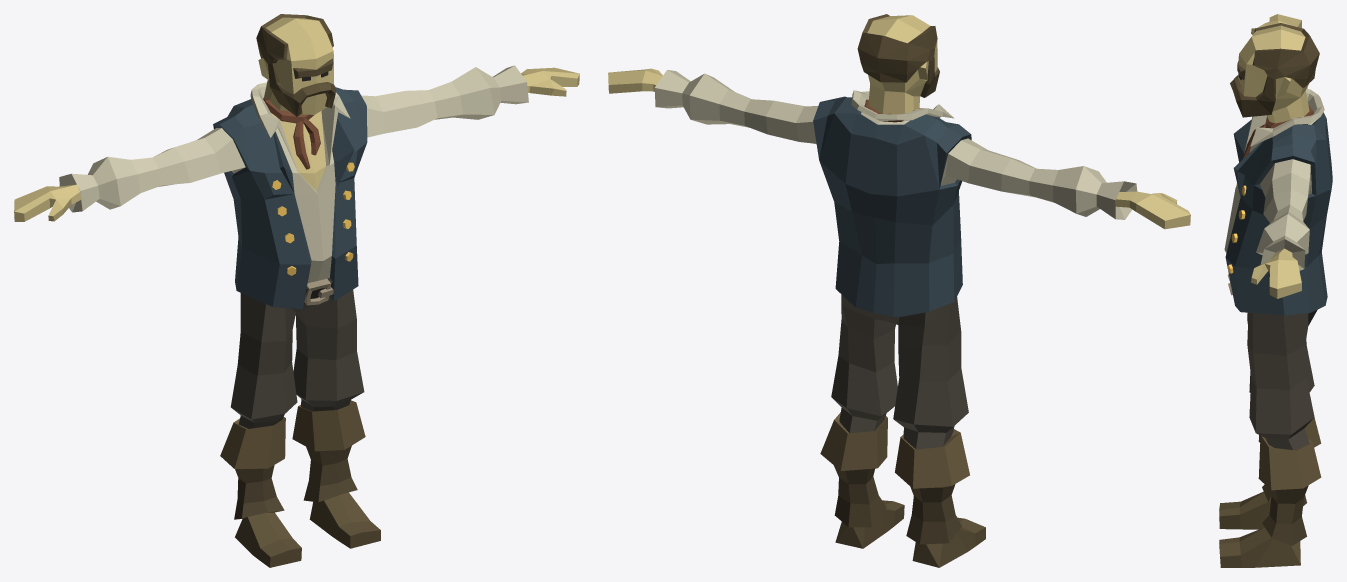
The model's file is Pirate_2.fbx.
The picture shows the model from 3 angles, left to right: view 1: azimuth 30°, elevation 25°; view 2: azimuth 150°, elevation 25°; view 3: azimuth 270°, elevation 25°; orthographic projection. The views are drawn at different scales.
Parts seen in each view (by area): view 1: Pirate_2; view 2: Pirate_2; view 3: Pirate_2.
Part boxes in pixels (bbox=[...]): Pirate_2: bbox=[14, 14, 579, 567]; Pirate_2: bbox=[608, 14, 1190, 567]; Pirate_2: bbox=[1219, 14, 1332, 567].
Size of the model in its own units: 205 by 177 by 35.74.
